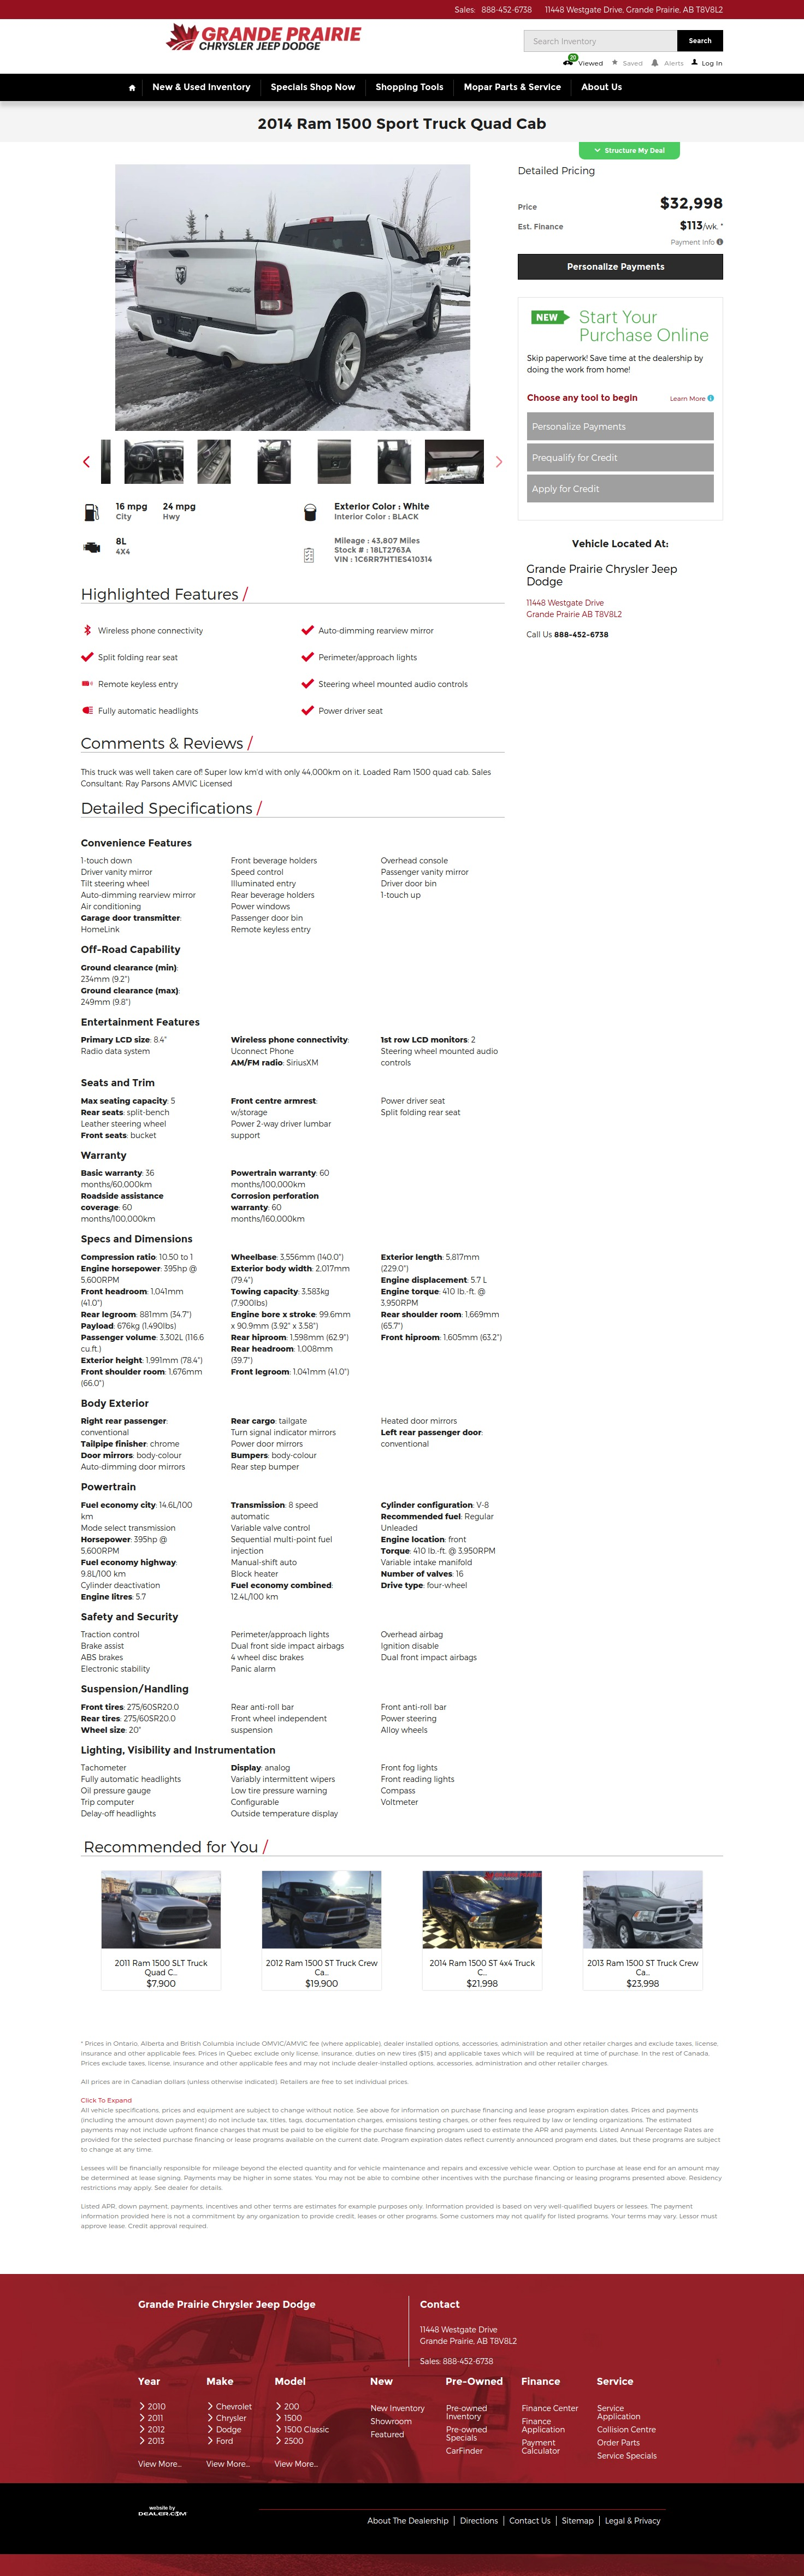car: (497, 457, 503, 468)
